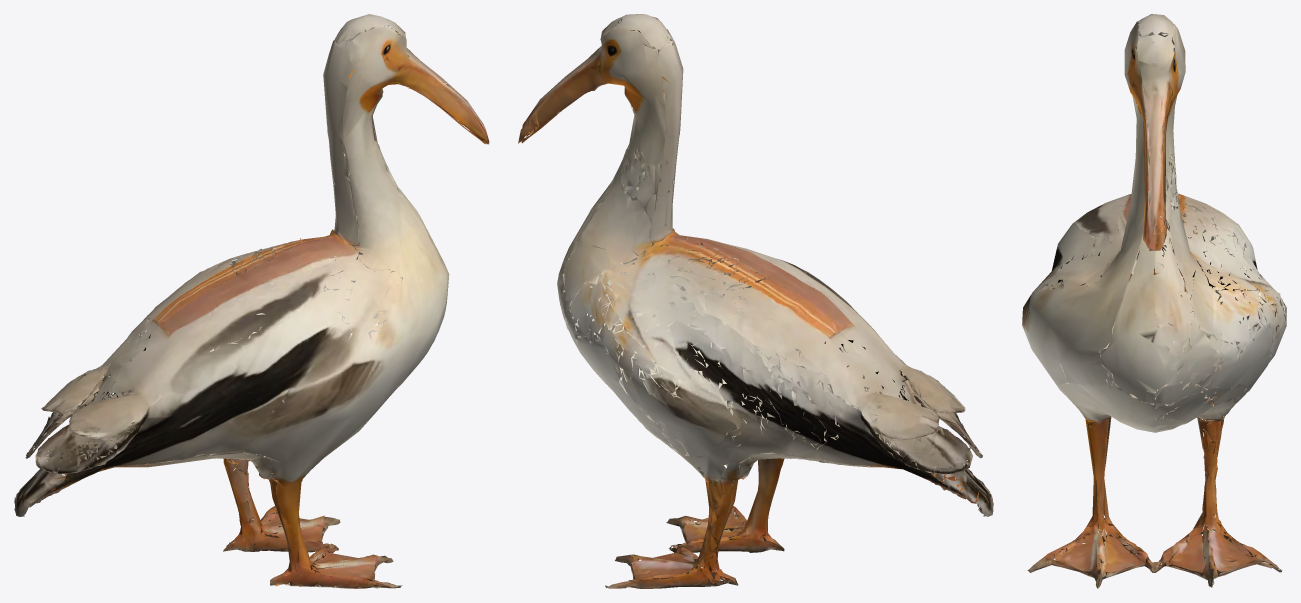
File: pelican.glb
The picture shows the model from 3 angles, left to right: view 1: azimuth 30°, elevation 25°; view 2: azimuth 150°, elevation 25°; view 3: azimuth 270°, elevation 25°; orthographic projection. The views are drawn at different scales.
Visible parts, largest first — view 1: Object_2.001; view 2: Object_2.001; view 3: Object_2.001.
Part boxes in pixels (x1,y1,x2,y2): Object_2.001: (14,14,489,588); Object_2.001: (518,14,993,588); Object_2.001: (1022,14,1286,588).
Size of the model in its own units: 0.9006 by 0.9642 by 0.4045.
Materials: 1 (1 with a texture image).
